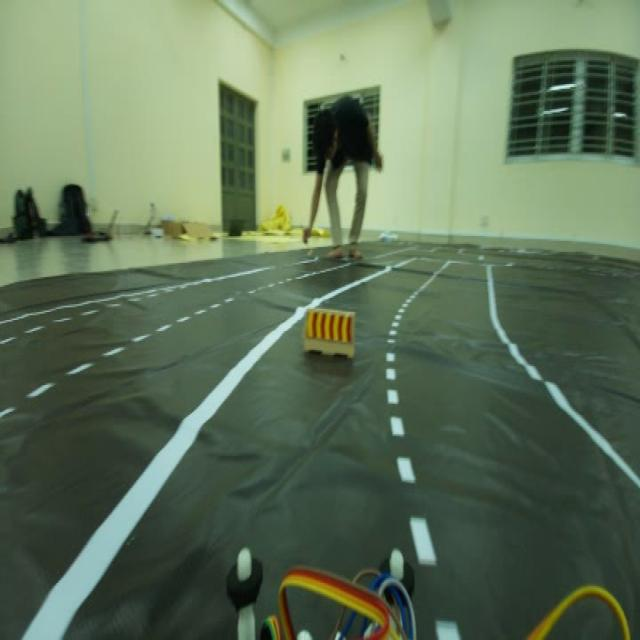roadblock: (304, 296, 359, 368)
